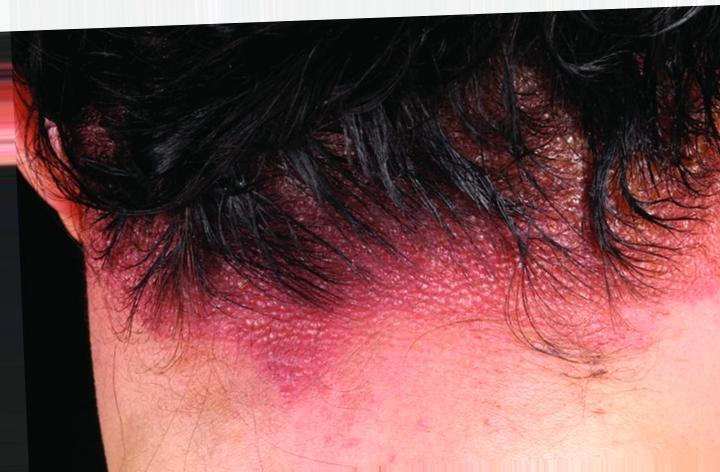Contact Dermatitis: (94, 159, 705, 333)
